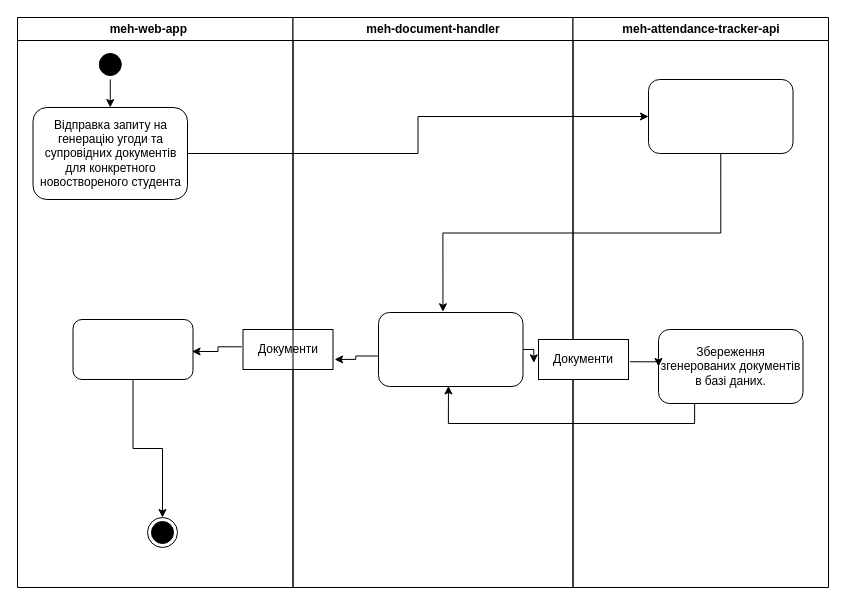
Some shapes in this 846 by 605 pixel diagram are drawn without their labels. The shapes that lost their labels are listed below. From the top down, each one's centre as x and y in pixels, then its label:
point (720, 116): Отримання даніих певного користувача та його представників з бази даних
point (132, 349): Отримання відповіді, влючаючи згенеровані документи
point (450, 349): Генерація угоди та супровідних документів у форматі docx
